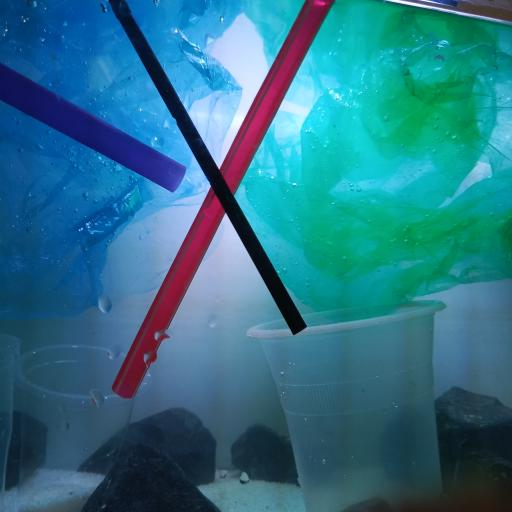plastic_bag: (240, 2, 512, 316), (1, 0, 241, 324)
plastic_cup: (245, 298, 446, 510), (11, 343, 153, 512), (0, 332, 21, 511)
plastic_straw: (109, 2, 334, 401), (108, 0, 308, 338), (0, 62, 187, 194)
